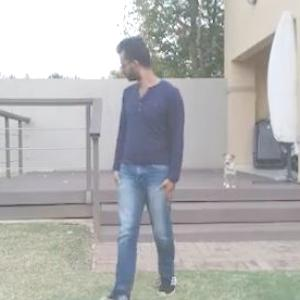follow: (85, 18, 188, 280)
